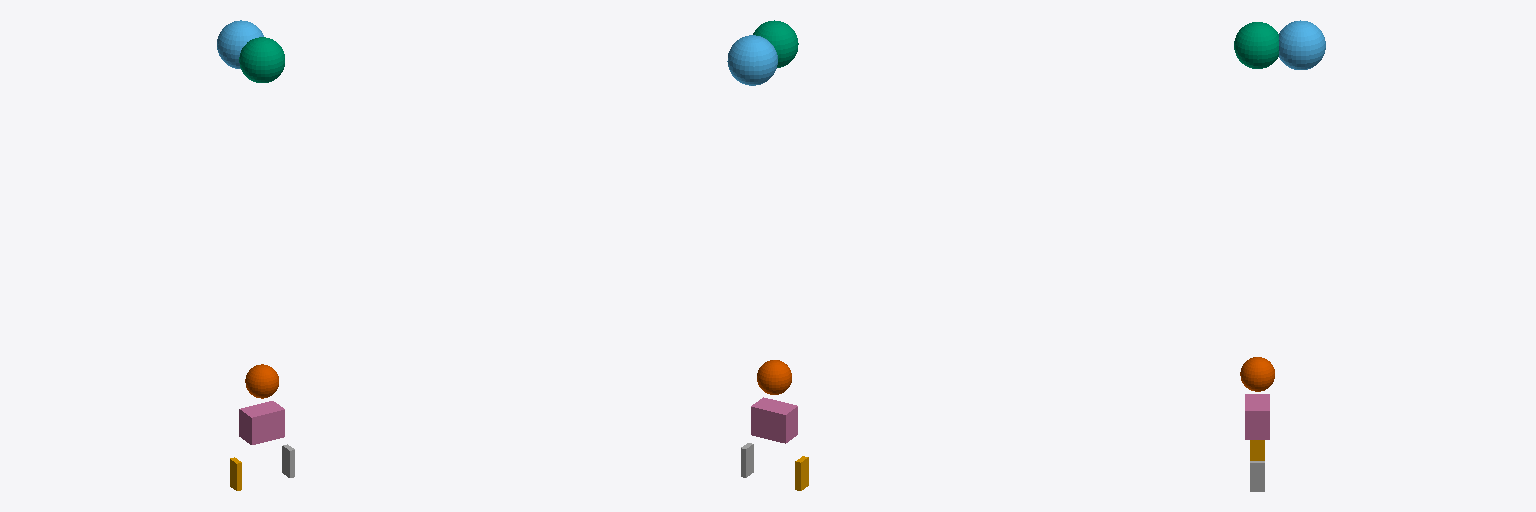
The robot description file, URDF, robot "pip_bench_arm":
<?xml version="1.0"?>
<robot name="pip_bench_arm">
  <link name="world"/>
  <link name="sh">
    <inertial>
      <origin xyz="0 0 0" rpy="0 0 0"/>
      <mass value="0.1164"/>
      <inertia ixx="7.4496e-05" iyy="7.4496e-05" izz="7.4496e-05" ixy="0" ixz="0" iyz="0"/>
    </inertial>
    <visual><origin xyz="0 0 0" rpy="0 0 0"/><geometry><sphere radius="0.04"/></geometry></visual>
    <collision><origin xyz="0 0 0" rpy="0 0 0"/><geometry><sphere radius="0.04"/></geometry></collision>
  </link>
  <joint name="pitch" type="revolute">
    <origin xyz="0 0 1.15" rpy="0 0 0"/>
    <parent link="world"/>
    <child link="sh"/>
    <axis xyz="0 1 0"/>
    <limit lower="-3.49066" upper="1.0472" effort="50" velocity="6"/>
  </joint>
  <link name="roll">
    <inertial>
      <origin xyz="0 0 0" rpy="0 0 0"/>
      <mass value="1.35"/>
      <inertia ixx="0.00077976" iyy="0.00077976" izz="0.00077976" ixy="0" ixz="0" iyz="0"/>
    </inertial>
    <visual><origin xyz="0 0 0" rpy="0 0 0"/><geometry><sphere radius="0.038"/></geometry></visual>
    <collision><origin xyz="0 0 0" rpy="0 0 0"/><geometry><sphere radius="0.038"/></geometry></collision>
  </link>
  <joint name="roll" type="revolute">
    <origin xyz="0 -0.069 0" rpy="0 0 0"/>
    <parent link="sh"/>
    <child link="roll"/>
    <axis xyz="-1 0 0"/>
    <limit lower="-0.261799" upper="1.74533" effort="50" velocity="6"/>
  </joint>
  <link name="upper">
    <inertial>
      <origin xyz="0 0 -0.10035" rpy="0 0 0"/>
      <mass value="1.918"/>
      <inertia ixx="0.0100481" iyy="0.0100481" izz="0.000947583" ixy="0" ixz="0" iyz="0"/>
    </inertial>
  </link>
  <joint name="yaw" type="revolute">
    <origin xyz="0 0 -0.0993" rpy="0 0 0"/>
    <parent link="roll"/>
    <child link="upper"/>
    <axis xyz="0 0 1"/>
    <limit lower="-2.61799" upper="2.61799" effort="50" velocity="6"/>
  </joint>
  <link name="fore">
    <inertial>
      <origin xyz="0 0 -0.11" rpy="0 0 0"/>
      <mass value="0.668"/>
      <inertia ixx="0.00374495" iyy="0.00374495" izz="0.000219637" ixy="0" ixz="0" iyz="0"/>
    </inertial>
  </link>
  <joint name="elbow" type="revolute">
    <origin xyz="0 0 -0.2007" rpy="0 0 0"/>
    <parent link="upper"/>
    <child link="fore"/>
    <axis xyz="0 1 0"/>
    <limit lower="-2.61799" upper="0" effort="50" velocity="6"/>
  </joint>
  <link name="wrist">
    <inertial>
      <origin xyz="0 0 0" rpy="0 0 0"/>
      <mass value="0.3"/>
      <inertia ixx="9.408e-05" iyy="9.408e-05" izz="9.408e-05" ixy="0" ixz="0" iyz="0"/>
    </inertial>
    <visual><origin xyz="0 0 0" rpy="0 0 0"/><geometry><sphere radius="0.028"/></geometry></visual>
    <collision><origin xyz="0 0 0" rpy="0 0 0"/><geometry><sphere radius="0.028"/></geometry></collision>
  </link>
  <joint name="wpitch" type="revolute">
    <origin xyz="0 0 -0.28" rpy="0 0 0"/>
    <parent link="fore"/>
    <child link="wrist"/>
    <axis xyz="0 1 0"/>
    <limit lower="-2.0944" upper="2.0944" effort="50" velocity="6"/>
  </joint>
  <link name="hand">
    <inertial>
      <origin xyz="0 0 -0.035" rpy="0 0 0"/>
      <mass value="0.39"/>
      <inertia ixx="0.00013325" iyy="0.00021437" izz="0.00018512" ixy="0" ixz="0" iyz="0"/>
    </inertial>
    <visual><origin xyz="0 0 -0.035" rpy="0 0 0"/><geometry><box size="0.064 0.04 0.05"/></geometry></visual>
    <collision><origin xyz="0 0 -0.035" rpy="0 0 0"/><geometry><box size="0.064 0.04 0.05"/></geometry></collision>
  </link>
  <joint name="wroll" type="revolute">
    <origin xyz="0 0 -0.04" rpy="0 0 0"/>
    <parent link="wrist"/>
    <child link="hand"/>
    <axis xyz="0 0 1"/>
    <limit lower="-2.0944" upper="2.0944" effort="50" velocity="6"/>
  </joint>
  <link name="finger_a">
    <inertial>
      <origin xyz="0 0 0" rpy="0 0 0"/>
      <mass value="0.03"/>
      <inertia ixx="7.69e-06" iyy="6.5e-06" izz="1.69e-06" ixy="0" ixz="0" iyz="0"/>
    </inertial>
    <visual><origin xyz="0 0 0" rpy="0 0 0"/><geometry><box size="0.01 0.024 0.05"/></geometry></visual>
    <collision><origin xyz="0 0 0" rpy="0 0 0"/><geometry><box size="0.01 0.024 0.05"/></geometry></collision>
  </link>
  <joint name="fa" type="prismatic">
    <origin xyz="0.05 0 -0.116" rpy="0 0 0"/>
    <parent link="hand"/>
    <child link="finger_a"/>
    <axis xyz="-1 0 0"/>
    <limit lower="0" upper="0.045" effort="50" velocity="6"/>
  </joint>
  <link name="finger_b">
    <inertial>
      <origin xyz="0 0 0" rpy="0 0 0"/>
      <mass value="0.03"/>
      <inertia ixx="7.69e-06" iyy="6.5e-06" izz="1.69e-06" ixy="0" ixz="0" iyz="0"/>
    </inertial>
    <visual><origin xyz="0 0 0" rpy="0 0 0"/><geometry><box size="0.01 0.024 0.05"/></geometry></visual>
    <collision><origin xyz="0 0 0" rpy="0 0 0"/><geometry><box size="0.01 0.024 0.05"/></geometry></collision>
  </link>
  <joint name="fb" type="prismatic">
    <origin xyz="-0.05 0 -0.116" rpy="0 0 0"/>
    <parent link="hand"/>
    <child link="finger_b"/>
    <axis xyz="1 0 0"/>
    <limit lower="0" upper="0.045" effort="50" velocity="6"/>
  </joint>
</robot>

--- What the picture shows (computed from the rendered views, not written in the file) ---
The picture shows the robot from 3 angles, left to right: view 1: azimuth 30°, elevation 25°; view 2: azimuth 150°, elevation 25°; view 3: azimuth 270°, elevation 25°; orthographic projection.
Robot: pip_bench_arm — 9 links, 8 joints (6 revolute, 2 prismatic); root link world; default pose: all joints at 0.
Visible links, largest first — view 1: hand, roll, sh, wrist; view 2: sh, hand, roll, wrist; view 3: sh, roll, hand, wrist.
Boxes of the visible links, <box> form: hand: <box>239,401,284,444</box>; roll: <box>239,37,284,82</box>; sh: <box>217,20,263,68</box>; wrist: <box>245,364,278,398</box>; sh: <box>727,35,777,85</box>; hand: <box>751,397,797,443</box>; roll: <box>753,20,798,67</box>; wrist: <box>757,360,791,394</box>; sh: <box>1279,20,1325,69</box>; roll: <box>1234,22,1278,68</box>; hand: <box>1245,394,1269,439</box>; wrist: <box>1240,357,1274,391</box>.
Bounding box of the posed robot: 0.11 × 0.147 × 0.801 m (x, y, z).
Geometry: primitives only (box / cylinder / sphere), no mesh files.
